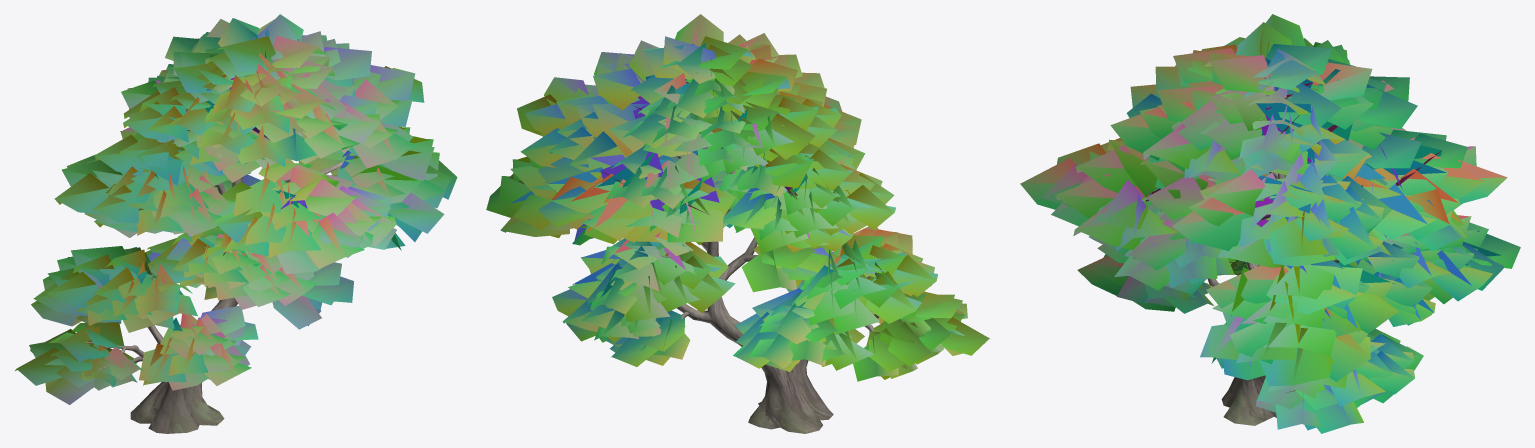
Rendered from Homeworld_Exterior_Cyg_Plant_Tree_Qiaoying_02_Lod0.fbx.
The picture shows the model from 3 angles, left to right: view 1: azimuth 30°, elevation 25°; view 2: azimuth 150°, elevation 25°; view 3: azimuth 270°, elevation 25°; orthographic projection. The views are drawn at different scales.
Parts seen in each view (by area): view 1: Area_Cyg_Tree_Common_Lxs_02_Leaf_Lod0, Area_Cyg_Tree_Common_Lxs_02_Bark_Lod0; view 2: Area_Cyg_Tree_Common_Lxs_02_Leaf_Lod0, Area_Cyg_Tree_Common_Lxs_02_Bark_Lod0; view 3: Area_Cyg_Tree_Common_Lxs_02_Leaf_Lod0, Area_Cyg_Tree_Common_Lxs_02_Bark_Lod0.
Boxes of the visible parts, box(x1,y1,x2,y2) form: Area_Cyg_Tree_Common_Lxs_02_Leaf_Lod0: box(15, 14, 457, 404); Area_Cyg_Tree_Common_Lxs_02_Bark_Lod0: box(83, 161, 397, 433); Area_Cyg_Tree_Common_Lxs_02_Leaf_Lod0: box(486, 14, 990, 381); Area_Cyg_Tree_Common_Lxs_02_Bark_Lod0: box(641, 98, 963, 433); Area_Cyg_Tree_Common_Lxs_02_Leaf_Lod0: box(1020, 14, 1520, 433); Area_Cyg_Tree_Common_Lxs_02_Bark_Lod0: box(1144, 127, 1339, 425).
Bounding box in the file's own units: 25.42 × 18.76 × 20.58.
